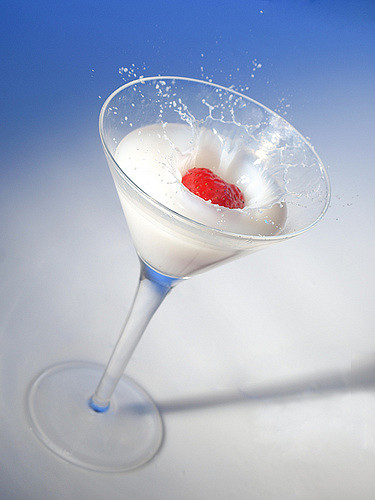glass of milk: (110, 98, 277, 289)
